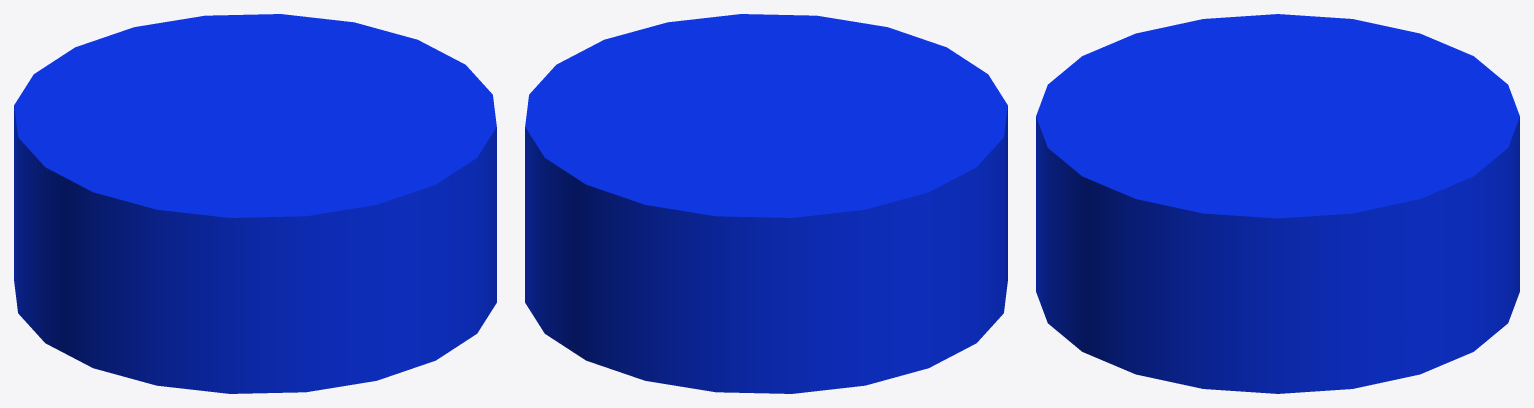
3 renders of one model, left to right at view 1: azimuth 30°, elevation 25°; view 2: azimuth 150°, elevation 25°; view 3: azimuth 270°, elevation 25°, orthographic.
Parts seen in each view (by area): view 1: Cylinder; view 2: Cylinder; view 3: Cylinder.
Part boxes in pixels (x1=…): Cylinder: x1=14, y1=14, x2=496, y2=393; Cylinder: x1=525, y1=14, x2=1007, y2=393; Cylinder: x1=1036, y1=14, x2=1519, y2=393.
Bounding box in the file's own units: 1 × 0.4 × 1.
